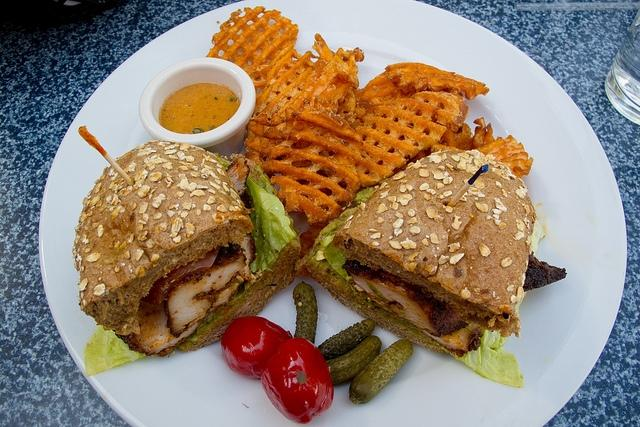lettuce: (379, 312, 524, 388), (246, 172, 296, 272), (84, 325, 146, 377), (322, 236, 352, 282)
